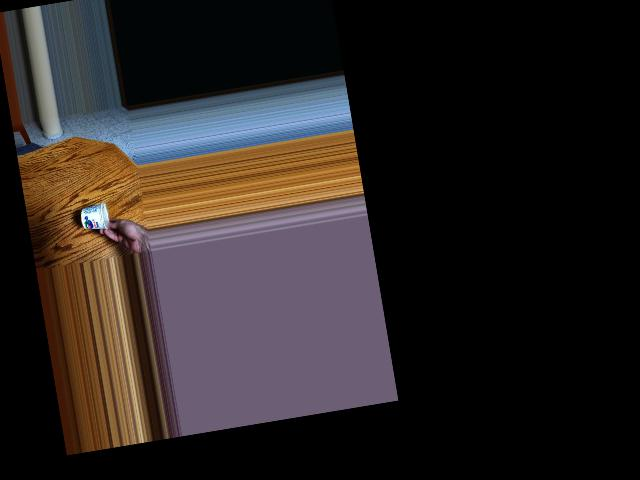cotage: (79, 198, 117, 238)
